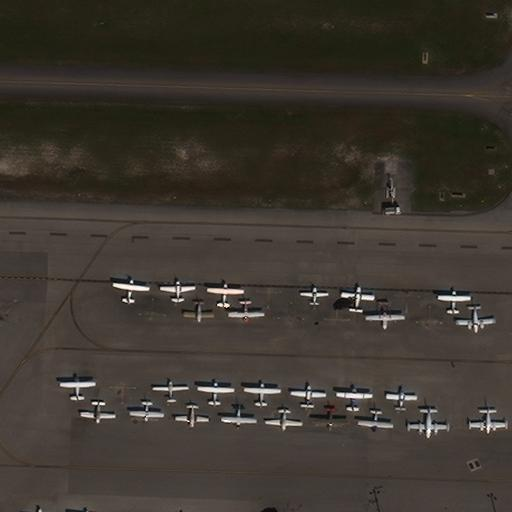Small Civil Transport: (410, 406, 446, 439), (365, 301, 404, 330), (456, 304, 495, 333), (470, 407, 505, 434), (113, 279, 149, 305), (197, 381, 234, 406), (207, 283, 244, 308), (244, 382, 281, 407), (221, 403, 256, 429), (228, 298, 264, 323), (336, 387, 372, 412), (341, 286, 374, 313), (265, 407, 302, 431), (60, 376, 95, 401), (290, 384, 325, 409), (357, 408, 393, 432), (80, 399, 114, 424), (311, 405, 345, 430), (160, 279, 195, 303), (175, 403, 208, 427), (129, 399, 163, 422), (153, 380, 187, 403), (386, 386, 417, 411), (438, 290, 470, 314), (183, 299, 213, 323), (299, 286, 328, 305)
